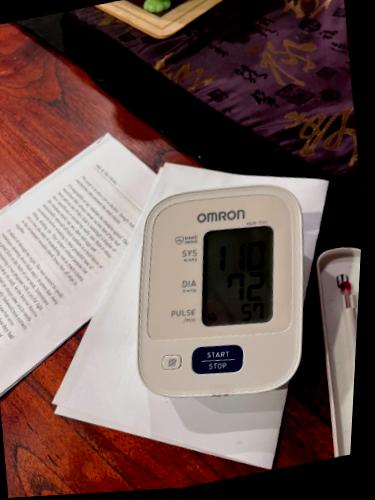bpm: (199, 222, 273, 330)
